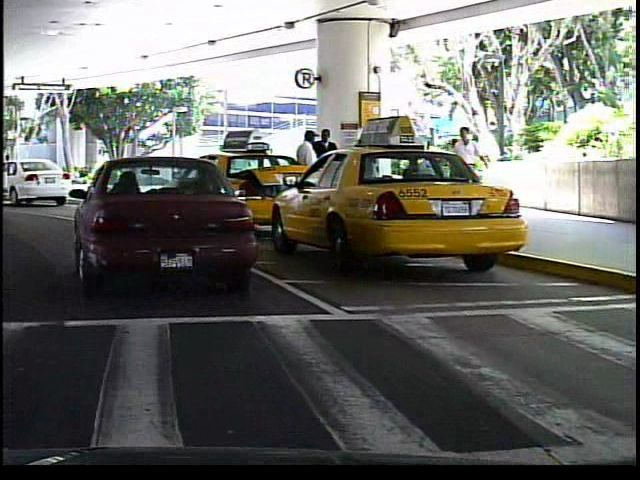person: (446, 121, 486, 219), (292, 126, 321, 216), (442, 131, 474, 207), (313, 126, 340, 210)
